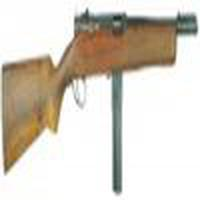gun: (1, 12, 199, 151)
